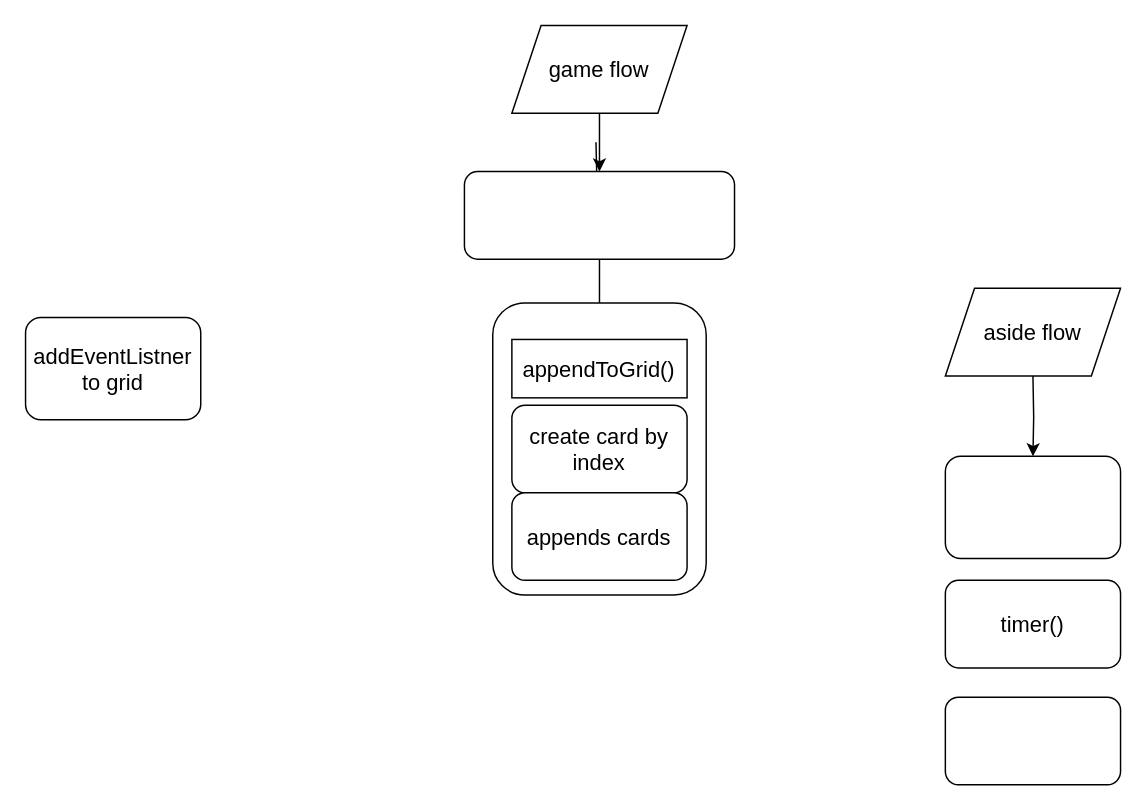
Image size: 1146x810. Some labels were removed from this diagram. Here are the shapes that lost their labels. From the top down, the box of each, then its label:
(463, 170, 735, 259): create random matrix [array of num(1-6) arrays]
(944, 455, 1121, 558): addEventListener to new game Button
